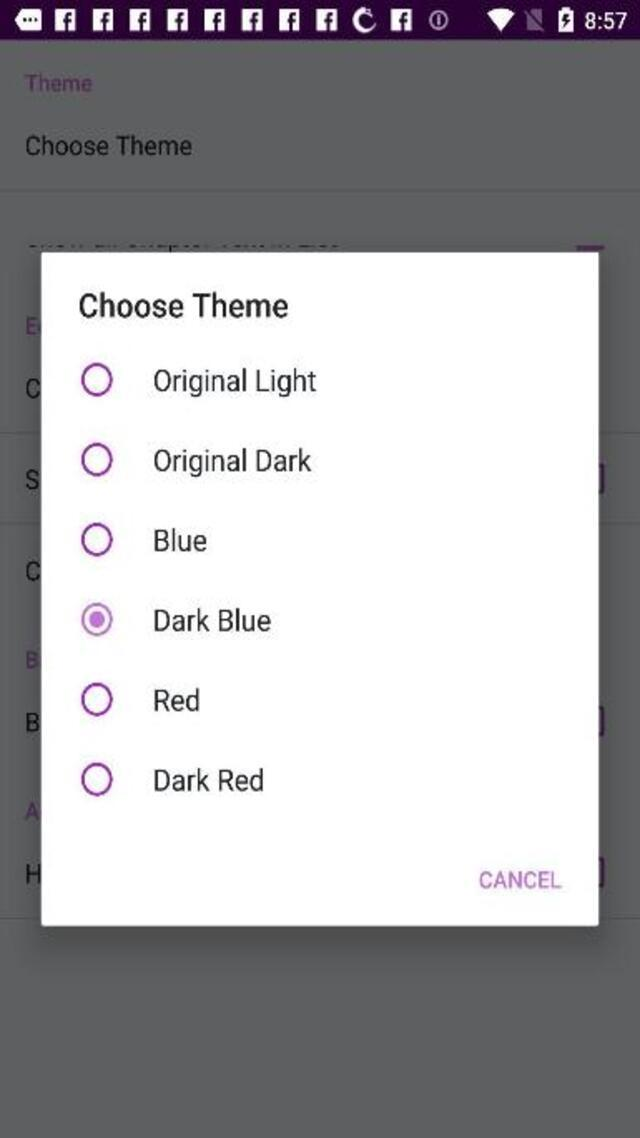CheckedTextView: (82, 364, 316, 398), (80, 442, 312, 476), (82, 602, 270, 636), (80, 762, 262, 796), (80, 522, 206, 556), (81, 682, 198, 716)
Text: (80, 290, 289, 318), (153, 368, 316, 396), (154, 448, 312, 476), (26, 135, 190, 156), (156, 609, 270, 632), (156, 768, 264, 790), (25, 73, 91, 94), (480, 871, 561, 886), (156, 529, 206, 552), (154, 687, 198, 710)
